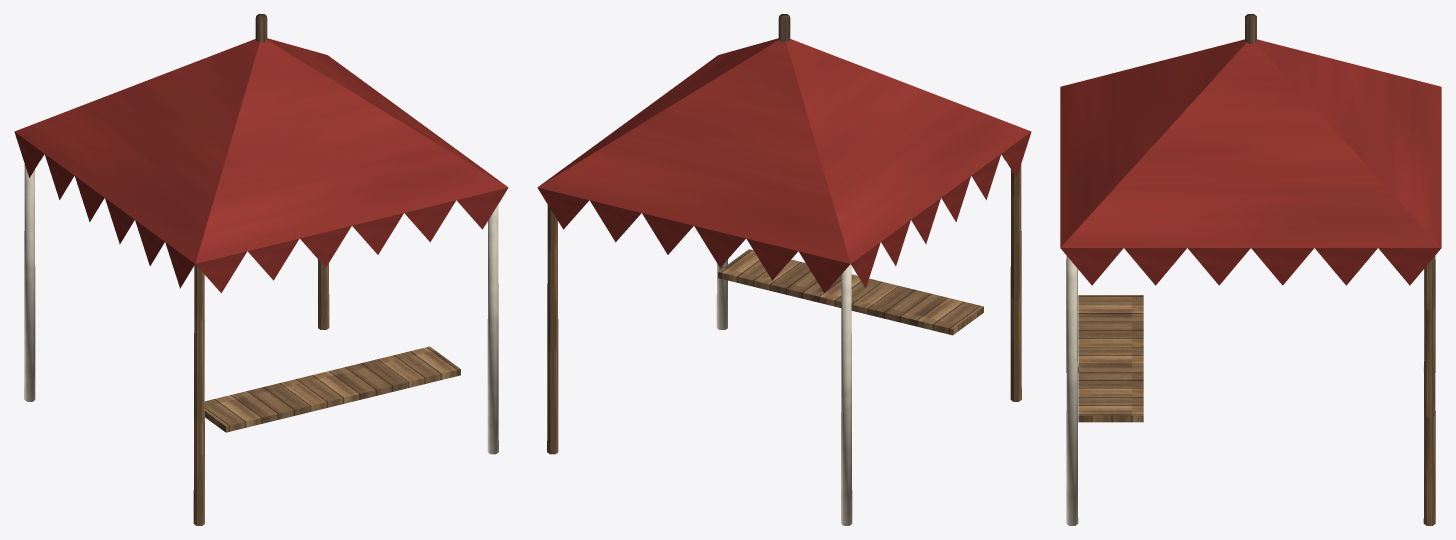
Rendered from Stall_Tent_Market_1.gltf.
3 renders of one model, left to right at view 1: azimuth 30°, elevation 25°; view 2: azimuth 150°, elevation 25°; view 3: azimuth 270°, elevation 25°, orthographic. The views are drawn at different scales.
Visible parts, largest first — view 1: Stall_Tent_Market_1; view 2: Stall_Tent_Market_1; view 3: Stall_Tent_Market_1.
Boxes of the visible parts, x1=… form: Stall_Tent_Market_1: x1=14, y1=14, x2=508, y2=525; Stall_Tent_Market_1: x1=537, y1=14, x2=1031, y2=525; Stall_Tent_Market_1: x1=1060, y1=14, x2=1441, y2=525.
Size of the model in its own units: 3.2 by 4 by 3.2.
4 materials, 4 textured.
